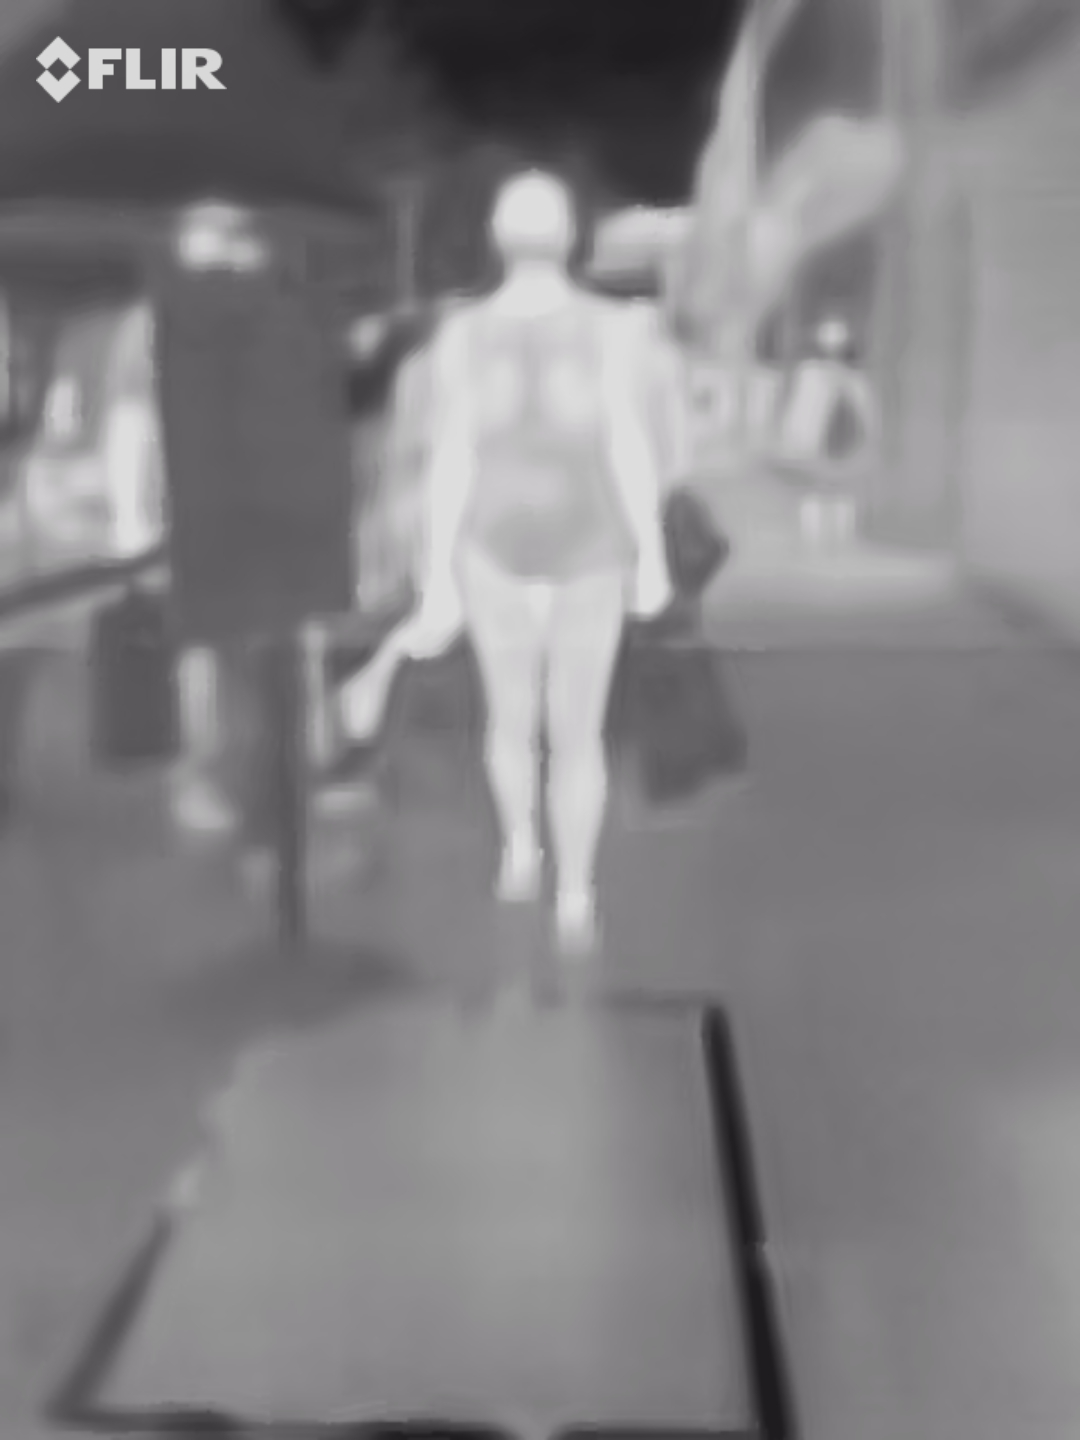head: (486, 166, 583, 281)
